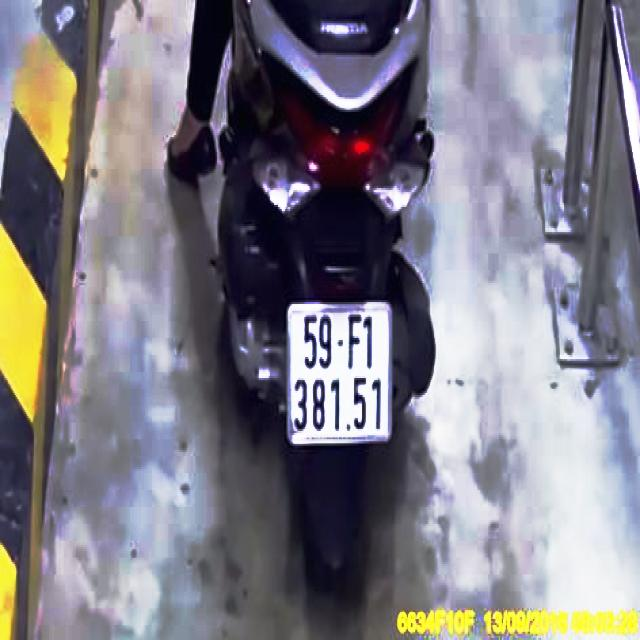license_plate: (289, 305, 389, 441)
